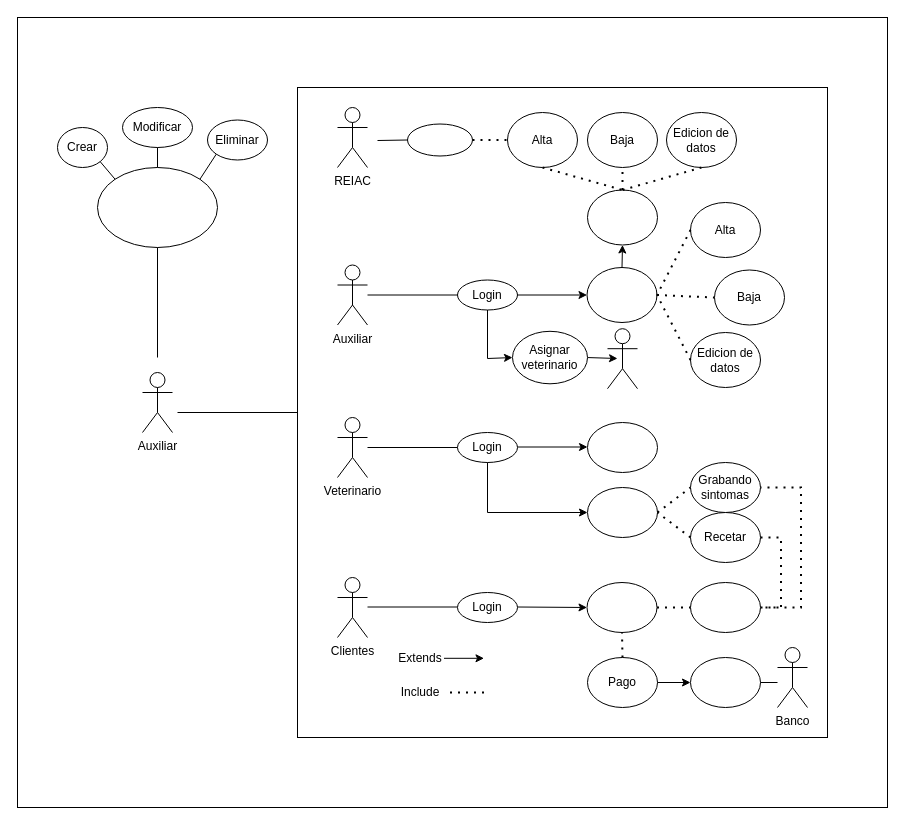
The diagram is 905 pixels wide and 825 high, and some of its shapes have lost their labels. Each missing label, with the box of its shape:
Comprobar: (406, 123, 472, 156)
Consultar estado: (586, 582, 657, 632)
Crear ficha: (690, 582, 760, 632)
Gestion mascotas: (586, 189, 658, 245)
Gestiona Clientes: (586, 266, 657, 322)
Gestionar usuarios: (96, 166, 218, 248)
Mascota: (606, 328, 638, 389)
Pasarela pagos: (690, 656, 760, 708)
Realiza consulta: (586, 486, 658, 538)
Revisa lista de espera: (586, 422, 658, 472)
